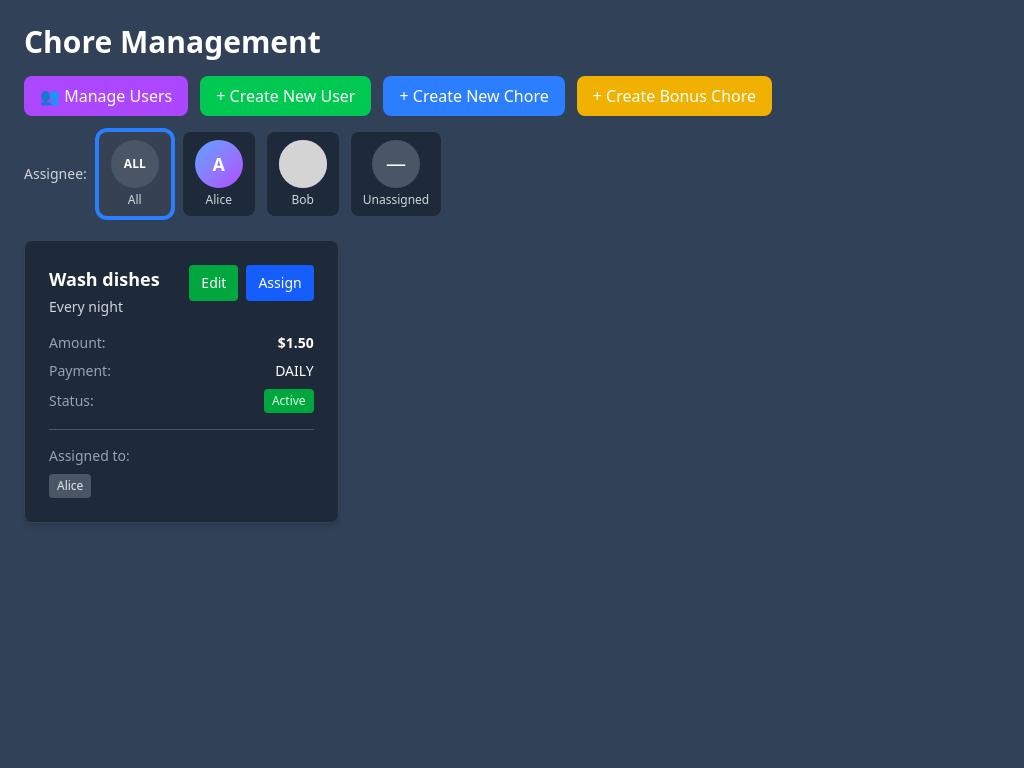
Test: AdminChoreManagement toolbar › opens the User Management modal, listing every user
Check: the heading "Chore Management" is shown, box left=24, top=21, right=321, bottom=62
Click the button "👥 Manage Users": (106, 96) left=24, top=76, right=188, bottom=116
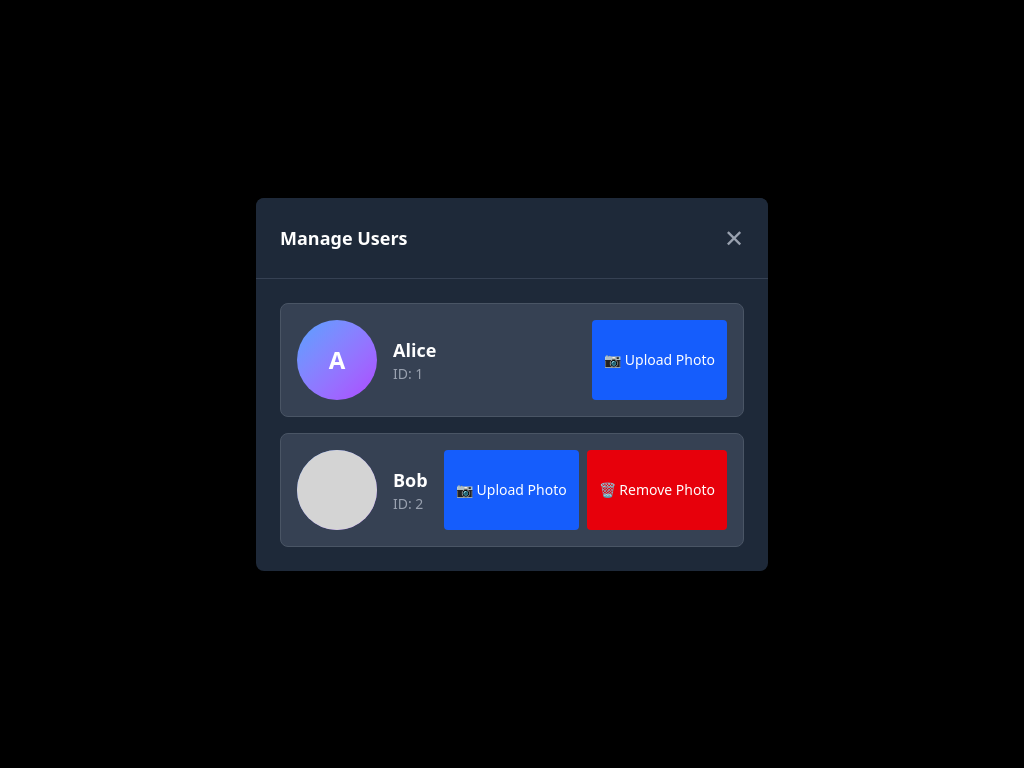
Check: the heading "Manage Users" is shown, box left=280, top=224, right=408, bottom=252
Check: the heading "Alice" is shown, box left=393, top=336, right=436, bottom=364
Check: the heading "Bob" is shown, box left=393, top=466, right=428, bottom=494
